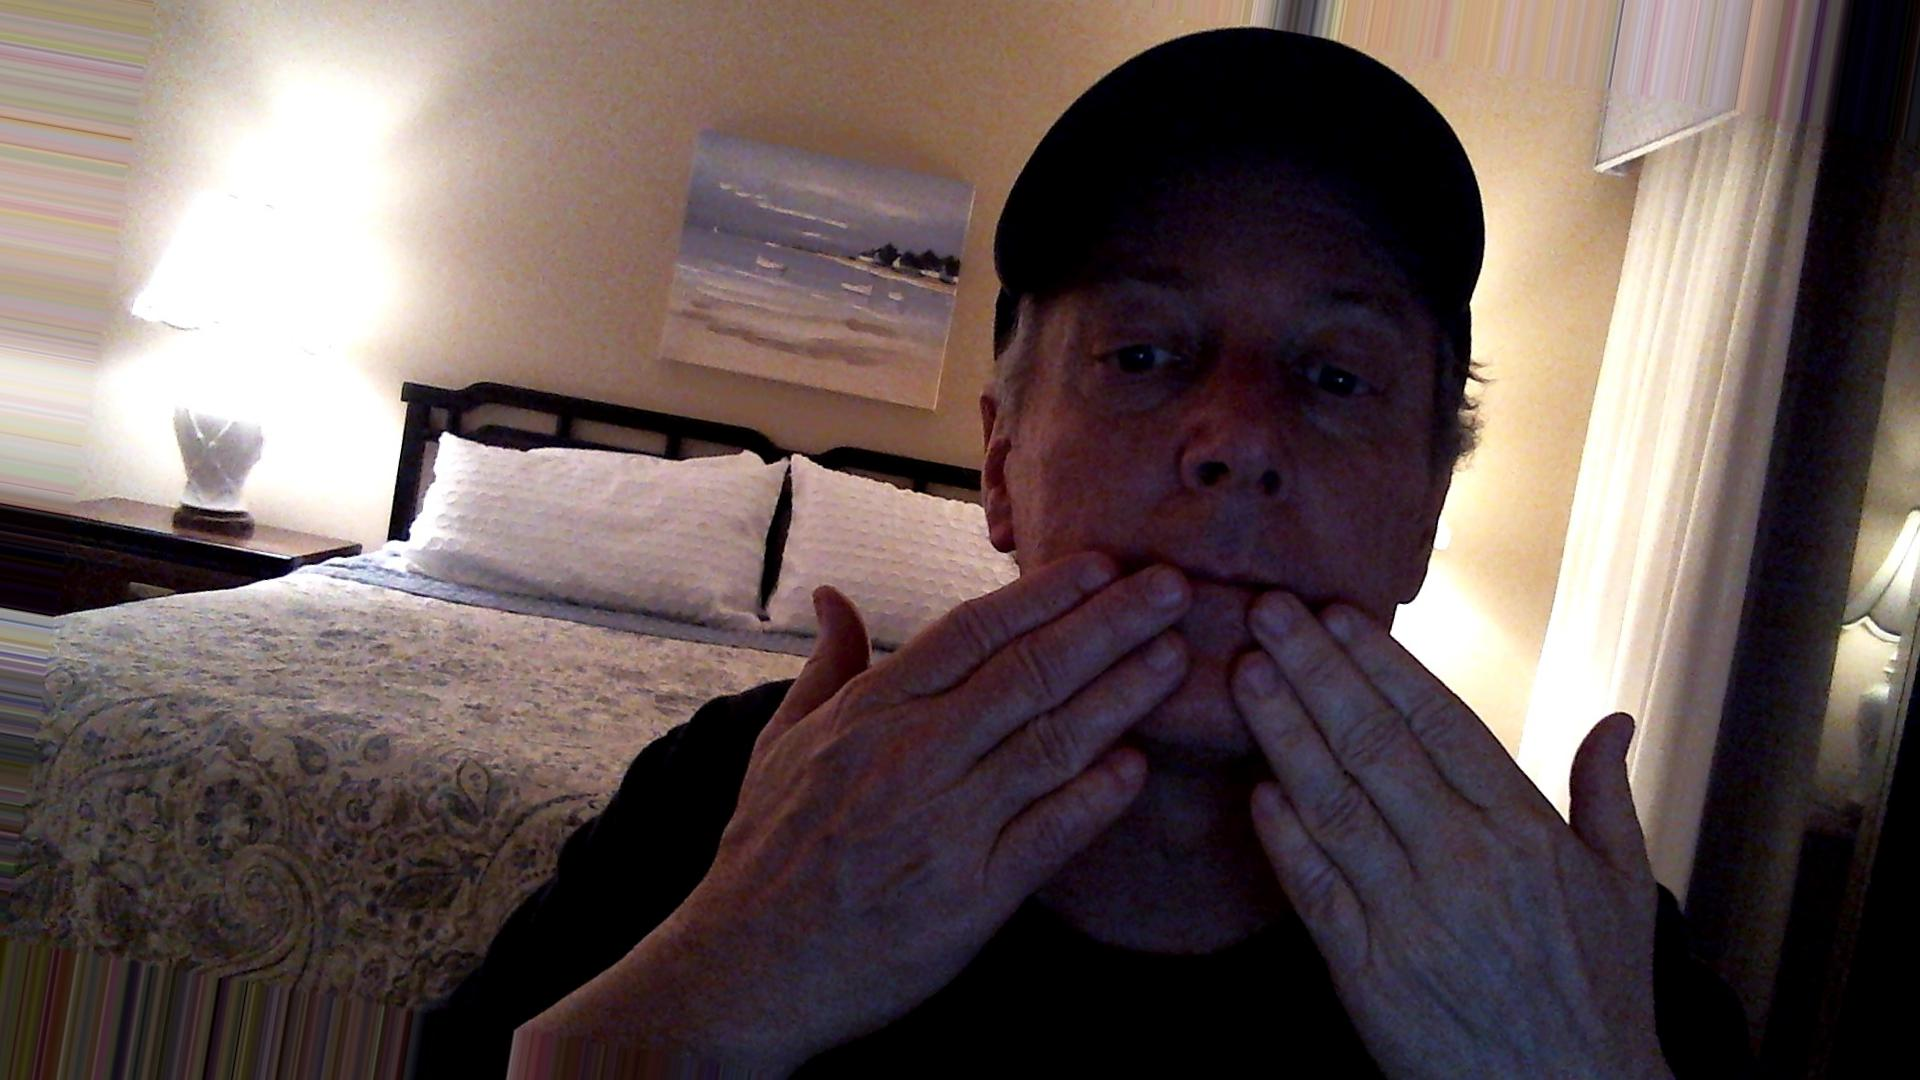Thank You: (742, 547, 1710, 1030)
